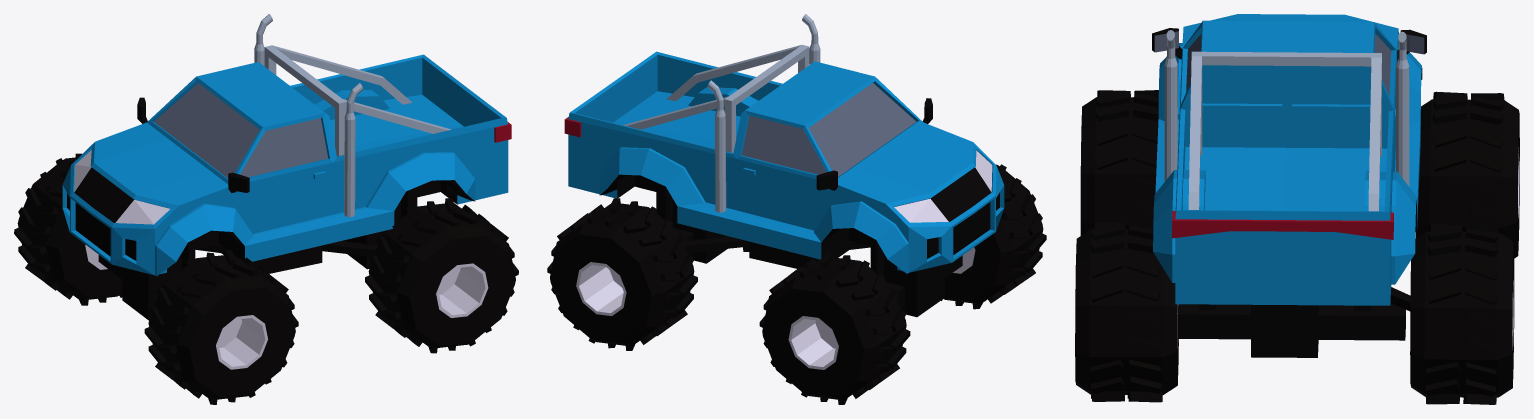
Rendered from monstertruck.glb.
The picture shows the model from 3 angles, left to right: view 1: azimuth 30°, elevation 25°; view 2: azimuth 150°, elevation 25°; view 3: azimuth 270°, elevation 25°; orthographic projection. The views are drawn at different scales.
Visible parts, largest first — view 1: chassis, flwheel, blwheel, frwheel; view 2: chassis, frwheel, brwheel, flwheel; view 3: chassis, brwheel, blwheel, frwheel, flwheel.
Boxes of the visible parts, box(x1,y1,x2,y2) form: chassis: box(62, 14, 511, 320); flwheel: box(144, 249, 298, 404); blwheel: box(365, 198, 518, 353); frwheel: box(14, 153, 122, 305); chassis: box(564, 14, 1004, 317); frwheel: box(759, 252, 910, 404); brwheel: box(547, 198, 697, 350); flwheel: box(941, 164, 1046, 309); chassis: box(1152, 14, 1426, 357); brwheel: box(1410, 224, 1514, 404); blwheel: box(1075, 222, 1178, 402); frwheel: box(1415, 91, 1519, 258); flwheel: box(1080, 90, 1158, 235).
Size of the model in its own units: 5.51 by 3.66 by 4.55.
